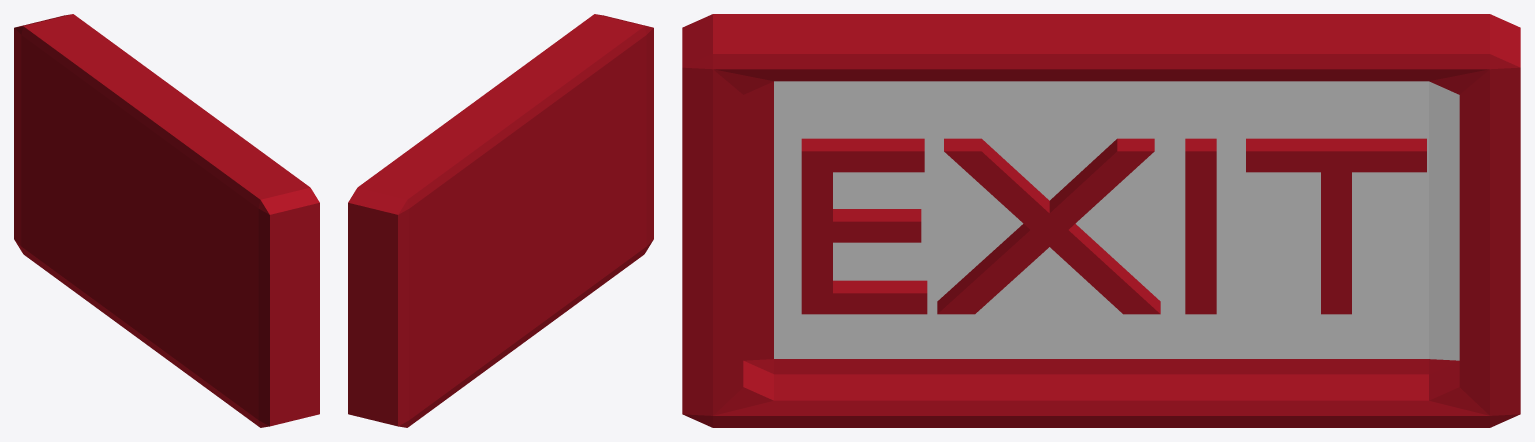
File: EXIT.ul.fbx
The picture shows the model from 3 angles, left to right: view 1: azimuth 30°, elevation 25°; view 2: azimuth 150°, elevation 25°; view 3: azimuth 270°, elevation 25°; orthographic projection. The views are drawn at different scales.
Parts seen in each view (by area): view 1: sign; view 2: sign; view 3: sign, Text.
Boxes of the visible parts, x1=… form: sign: x1=14, y1=14, x2=319, y2=427; sign: x1=348, y1=14, x2=653, y2=427; sign: x1=682, y1=14, x2=1520, y2=427; Text: x1=801, y1=138, x2=1426, y2=314.
Bounding box in the file's own units: 6.25 × 25.24 × 51.26.
